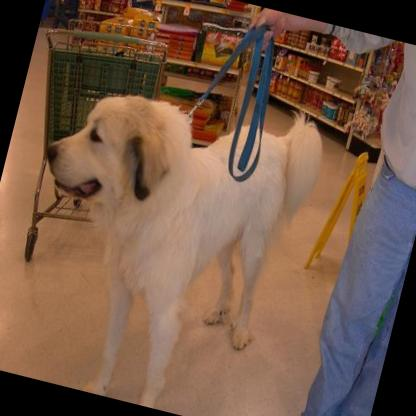Great_Pyrenees: (0, 47, 334, 416)
